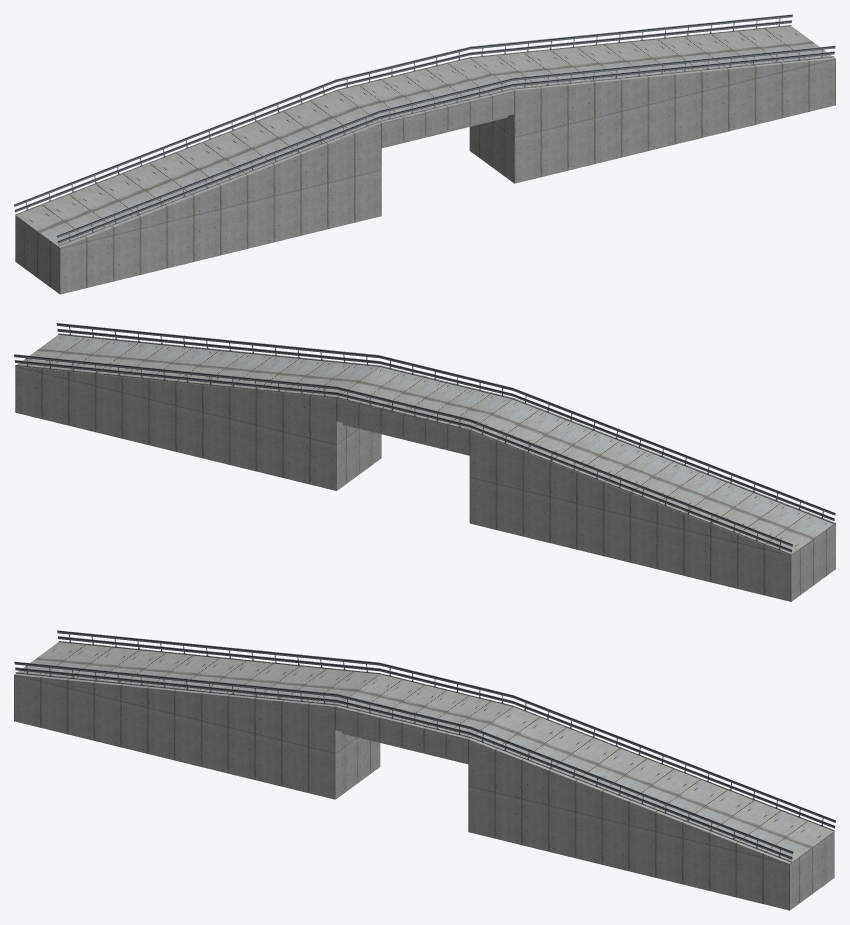
The model's file is sb_bridge_concrete.fbx.
3 views of the same model, one above another, from view 1: azimuth 30°, elevation 25°; view 2: azimuth 150°, elevation 25°; view 3: azimuth 330°, elevation 25° (orthographic).
Parts seen in each view (by area): view 1: sb_bridge_concrete, sb_bridge_rail_01, sb_bridge_rail_02; view 2: sb_bridge_concrete, sb_bridge_rail_01, sb_bridge_rail_02; view 3: sb_bridge_concrete, sb_bridge_rail_02, sb_bridge_rail_01.
Boxes of the visible parts, x1,y1,x2,y2 form: sb_bridge_concrete: (15,26,835,294); sb_bridge_rail_01: (56,45,835,246); sb_bridge_rail_02: (14,14,792,215); sb_bridge_concrete: (15,333,835,601); sb_bridge_rail_01: (56,323,835,523); sb_bridge_rail_02: (14,354,792,554); sb_bridge_concrete: (14,642,834,910); sb_bridge_rail_02: (57,630,835,831); sb_bridge_rail_01: (14,661,793,862).
Size of the model in its own units: 7027 by 900 by 700.
